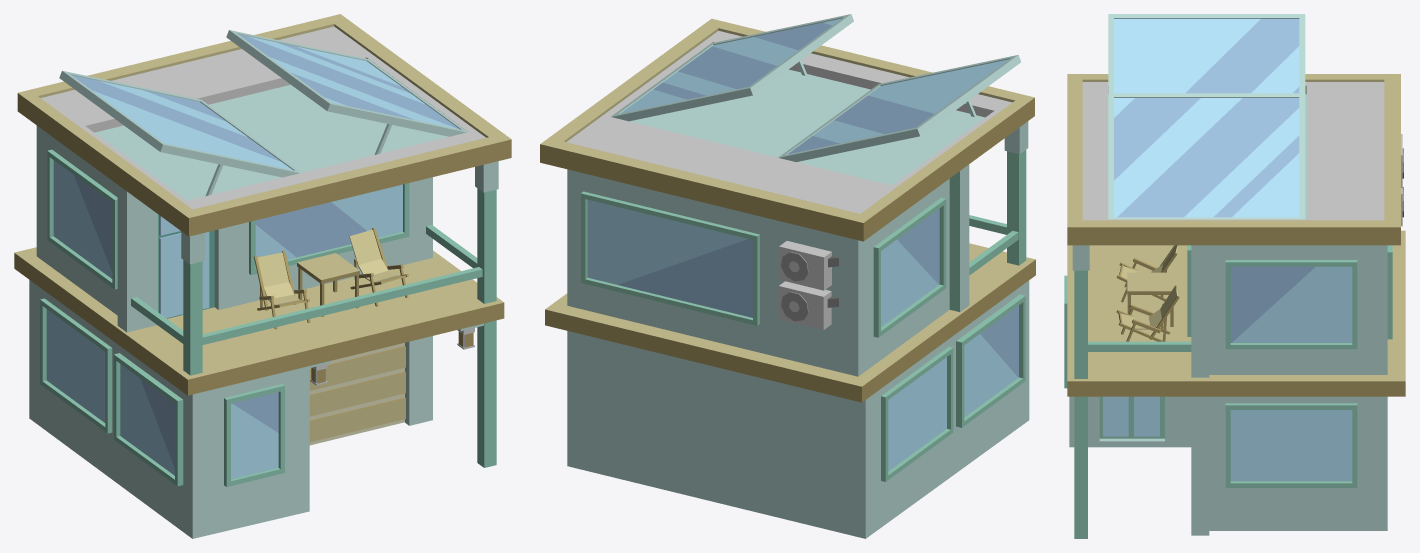
File: cottage_007.fbx
The picture shows the model from 3 angles, left to right: view 1: azimuth 30°, elevation 25°; view 2: azimuth 150°, elevation 25°; view 3: azimuth 270°, elevation 25°; orthographic projection. The views are drawn at different scales.
Visible parts, largest first — view 1: cottage_007; view 2: cottage_007; view 3: cottage_007.
Part boxes in pixels (x1,y1,x2,y2): cottage_007: (14, 14, 511, 538); cottage_007: (540, 14, 1035, 538); cottage_007: (1064, 14, 1405, 538).
Size of the model in its own units: 669 by 744 by 614.
